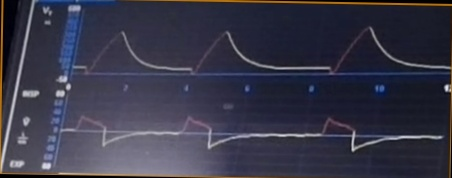Flow: (64, 110, 434, 169)
Leakage Volume: (78, 19, 433, 82)
